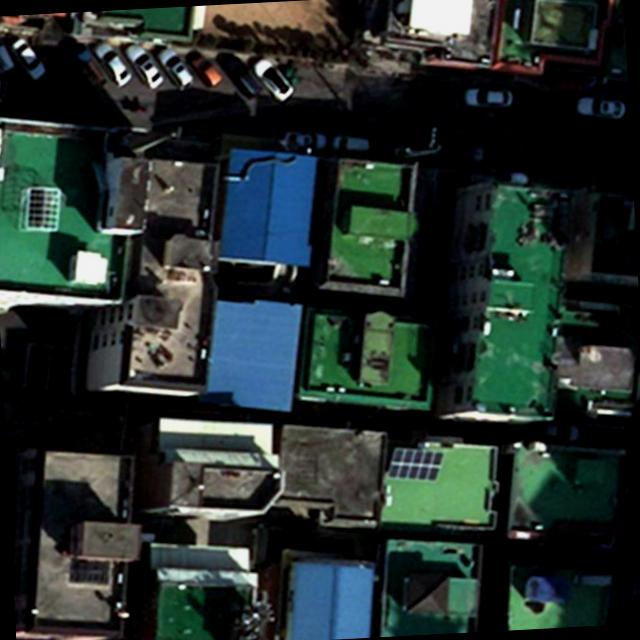solar: (382, 443, 446, 488)
